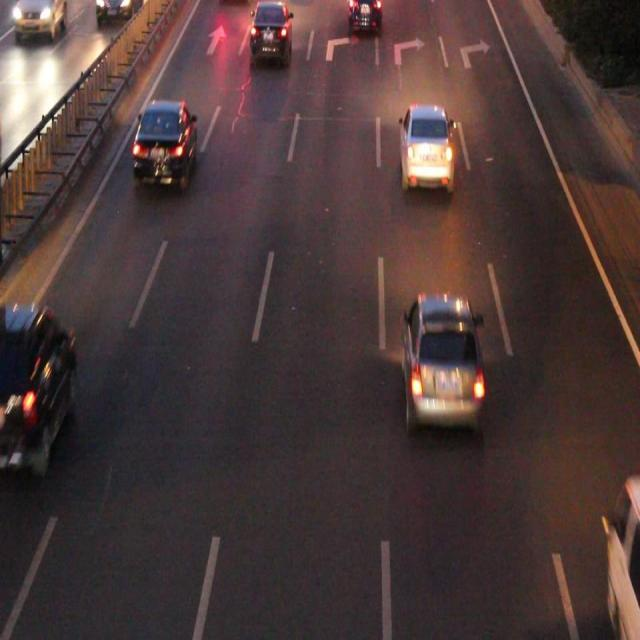car: (1, 303, 76, 467), (402, 297, 482, 422), (135, 102, 196, 180), (399, 108, 451, 187), (250, 1, 291, 58), (348, 1, 379, 30)
